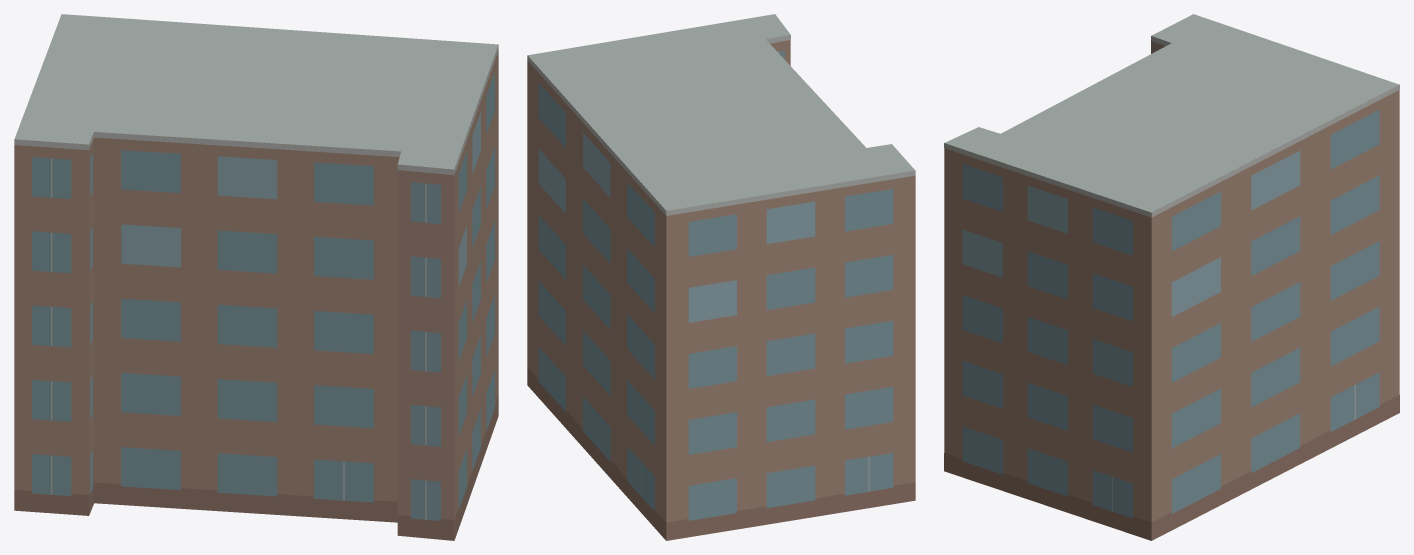
Rendered from survey-upis-32978212.glb.
3 views of the same model, side by side, from view 1: azimuth 30°, elevation 25°; view 2: azimuth 150°, elevation 25°; view 3: azimuth 270°, elevation 25° (orthographic). The views are drawn at different scales.
Parts seen in each view (by area): view 1: survey-upis-32978212.tmp; view 2: survey-upis-32978212.tmp; view 3: survey-upis-32978212.tmp.
Boxes of the visible parts, x1,y1,x2,y2 form: survey-upis-32978212.tmp: (14,14,498,540); survey-upis-32978212.tmp: (527,14,915,540); survey-upis-32978212.tmp: (944,14,1399,540).
Size of the model in its own units: 20.64 by 15.9 by 20.01.
